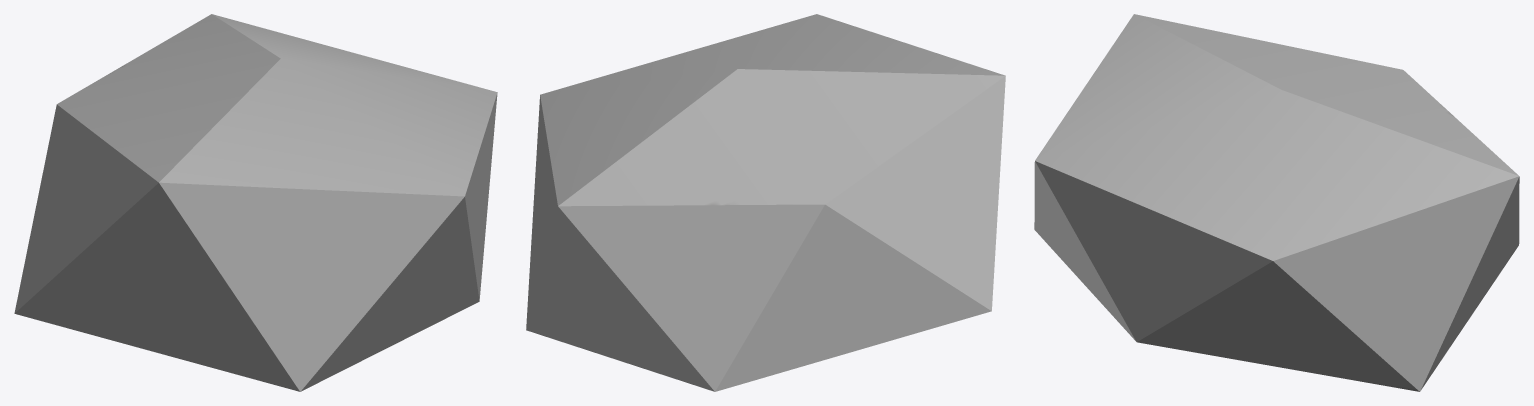
The model's file is PRP_Stone.fbx.
3 views of the same model, side by side, from view 1: azimuth 30°, elevation 25°; view 2: azimuth 150°, elevation 25°; view 3: azimuth 270°, elevation 25° (orthographic). The views are drawn at different scales.
Parts seen in each view (by area): view 1: Icosphere.009; view 2: Icosphere.009; view 3: Icosphere.009.
Boxes of the visible parts, box(x1,y1,x2,y2) form: Icosphere.009: box(14, 14, 497, 391); Icosphere.009: box(526, 14, 1005, 391); Icosphere.009: box(1034, 14, 1519, 391).
Size of the model in its own units: 126 by 64.97 by 120.
